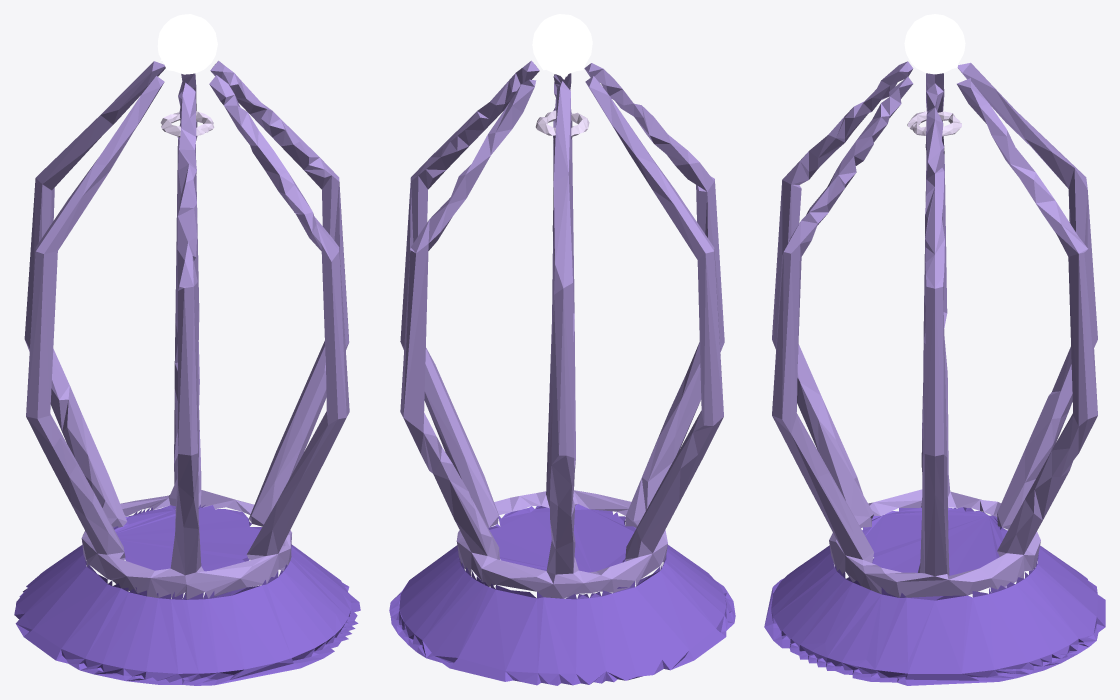
File: lure_spirit.glb
3 renders of one model, left to right at view 1: azimuth 30°, elevation 25°; view 2: azimuth 150°, elevation 25°; view 3: azimuth 270°, elevation 25°, orthographic.
Parts seen in each view (by area): view 1: lure_spirit; view 2: lure_spirit; view 3: lure_spirit.
Part boxes in pixels (x1,y1,x2,y2): lure_spirit: [14, 14, 360, 685]; lure_spirit: [389, 14, 735, 685]; lure_spirit: [764, 14, 1105, 685].
Size of the model in its own units: 0.4278 by 0.755 by 0.3912.
